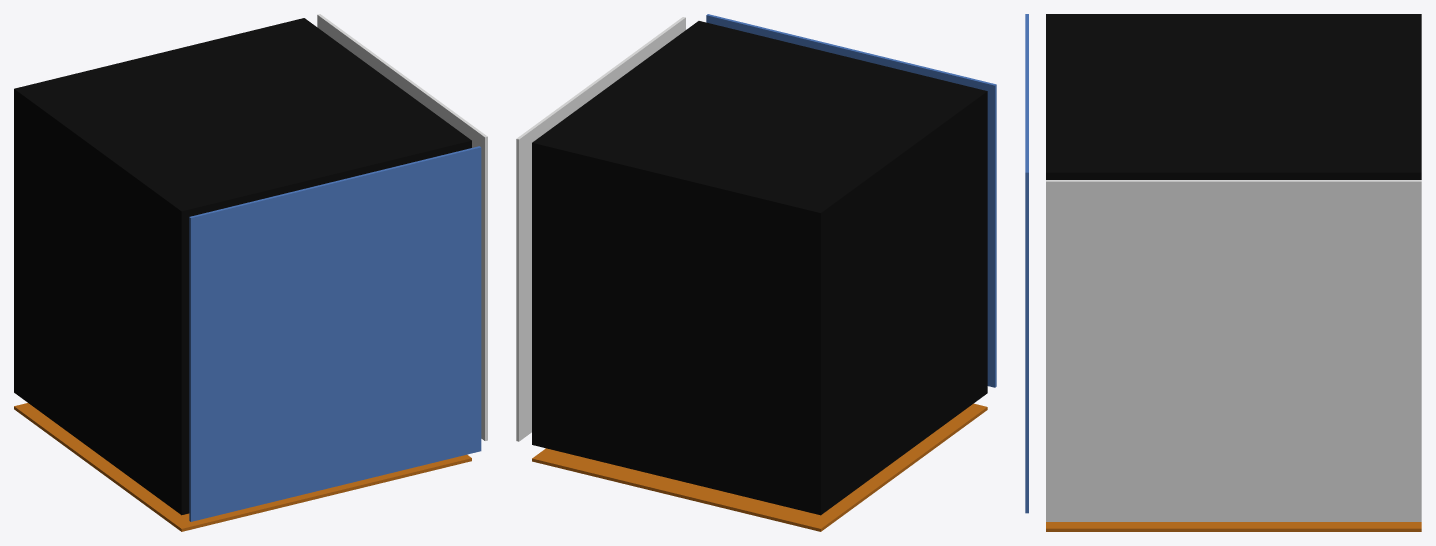
File: wob.glb
3 views of the same model, side by side, from view 1: azimuth 30°, elevation 25°; view 2: azimuth 150°, elevation 25°; view 3: azimuth 270°, elevation 25° (orthographic). The views are drawn at different scales.
Parts seen in each view (by area): view 1: Cube, blue-9, red-1, white-3; view 2: Cube, red-1, white-3, blue-9; view 3: white-3, Cube, red-1, blue-9.
Part boxes in pixels (box(x1,y1,x2,y2)): Cube: box(14, 18, 471, 515); blue-9: box(189, 146, 481, 521); red-1: box(14, 403, 471, 531); white-3: box(317, 14, 487, 440); Cube: box(532, 21, 987, 515); red-1: box(532, 403, 987, 531); white-3: box(516, 17, 685, 441); blue-9: box(706, 14, 996, 387); white-3: box(1046, 180, 1421, 521); Cube: box(1046, 14, 1421, 179); red-1: box(1046, 522, 1421, 531); blue-9: box(1025, 14, 1028, 513).
Bounding box in the file's own units: 2.11 × 2.11 × 2.11.
